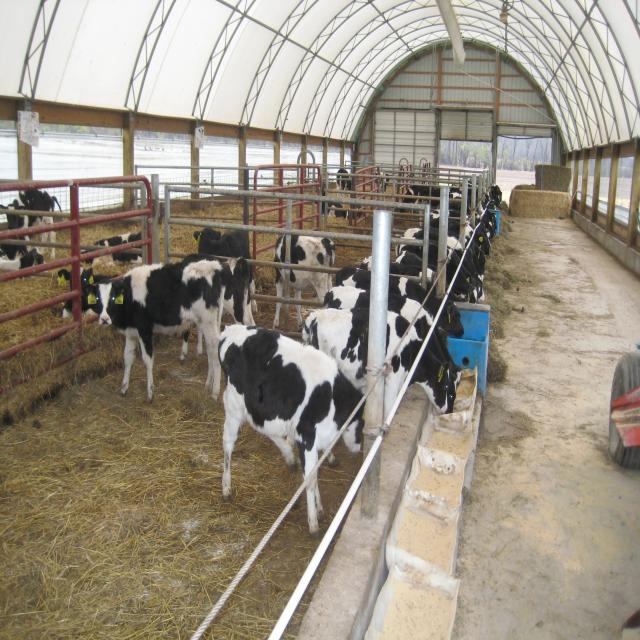cow: (217, 322, 364, 536), (300, 299, 464, 455), (85, 255, 236, 404), (332, 265, 463, 338), (57, 231, 144, 323), (272, 231, 336, 331), (192, 226, 258, 321), (2, 184, 64, 260)
